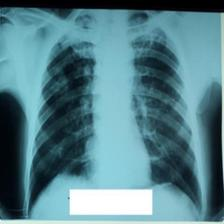tuberculosis: (25, 9, 207, 221)
